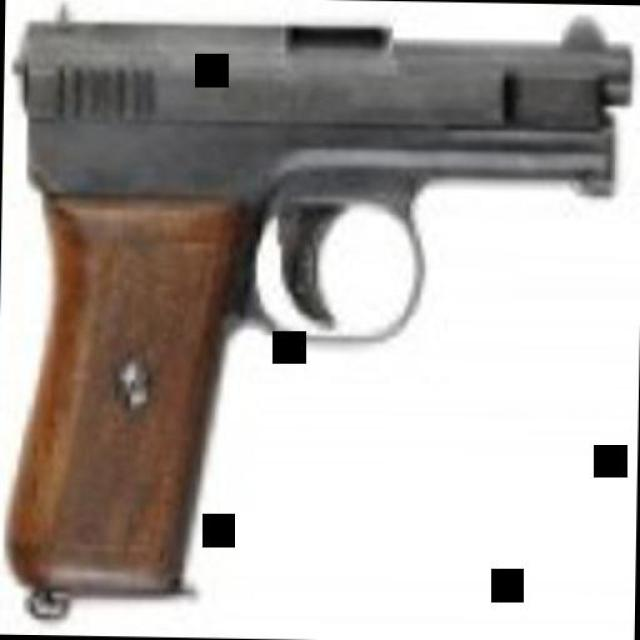gun: (10, 4, 625, 590)
